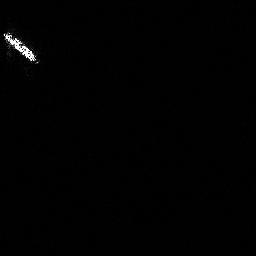ship: (1, 30, 41, 63)
